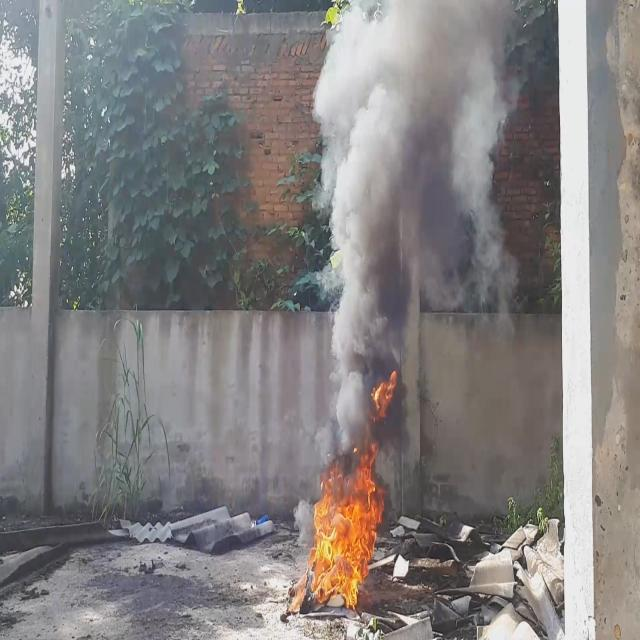Fire: (308, 436, 385, 606)
Smoke: (313, 0, 520, 456)
